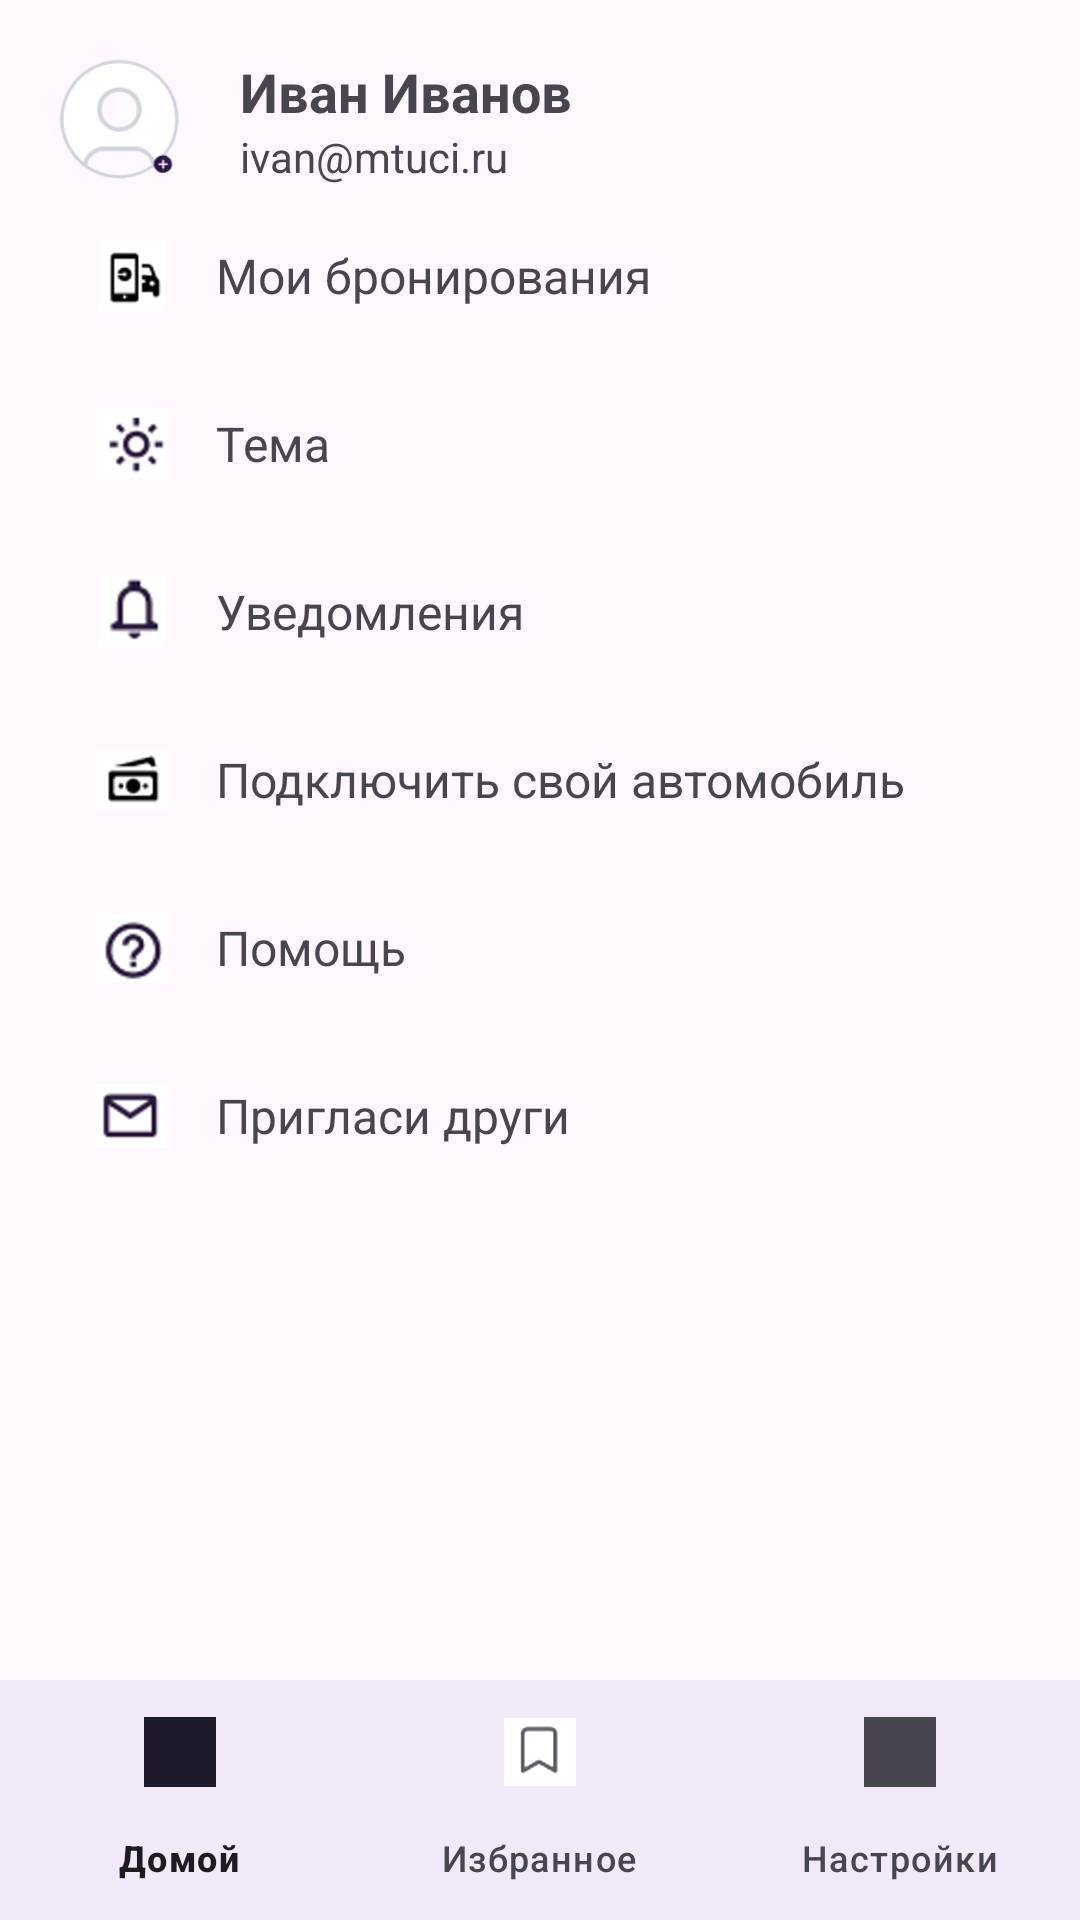

Screen size 1080*1920. Icon name, then its center in pixels as (x,y):
booking: (135,277)
help: (133,950)
invite friend: (130,1115)
notifications: (134,609)
theme: (136,444)
